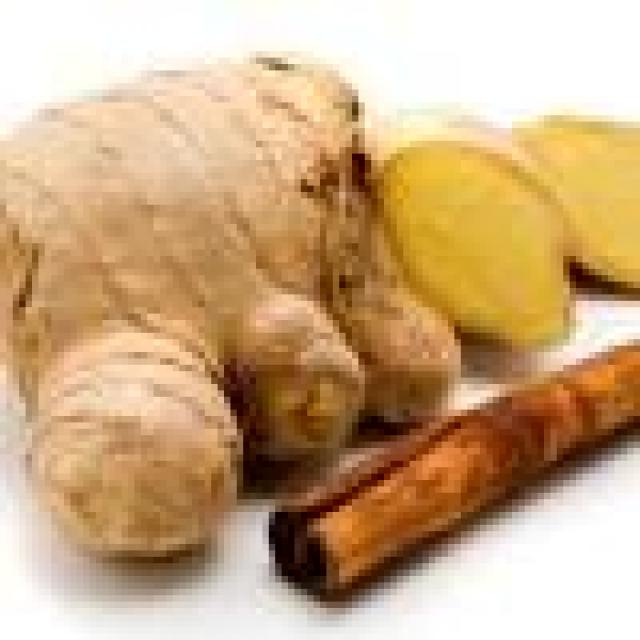ginger: (5, 65, 462, 545)
